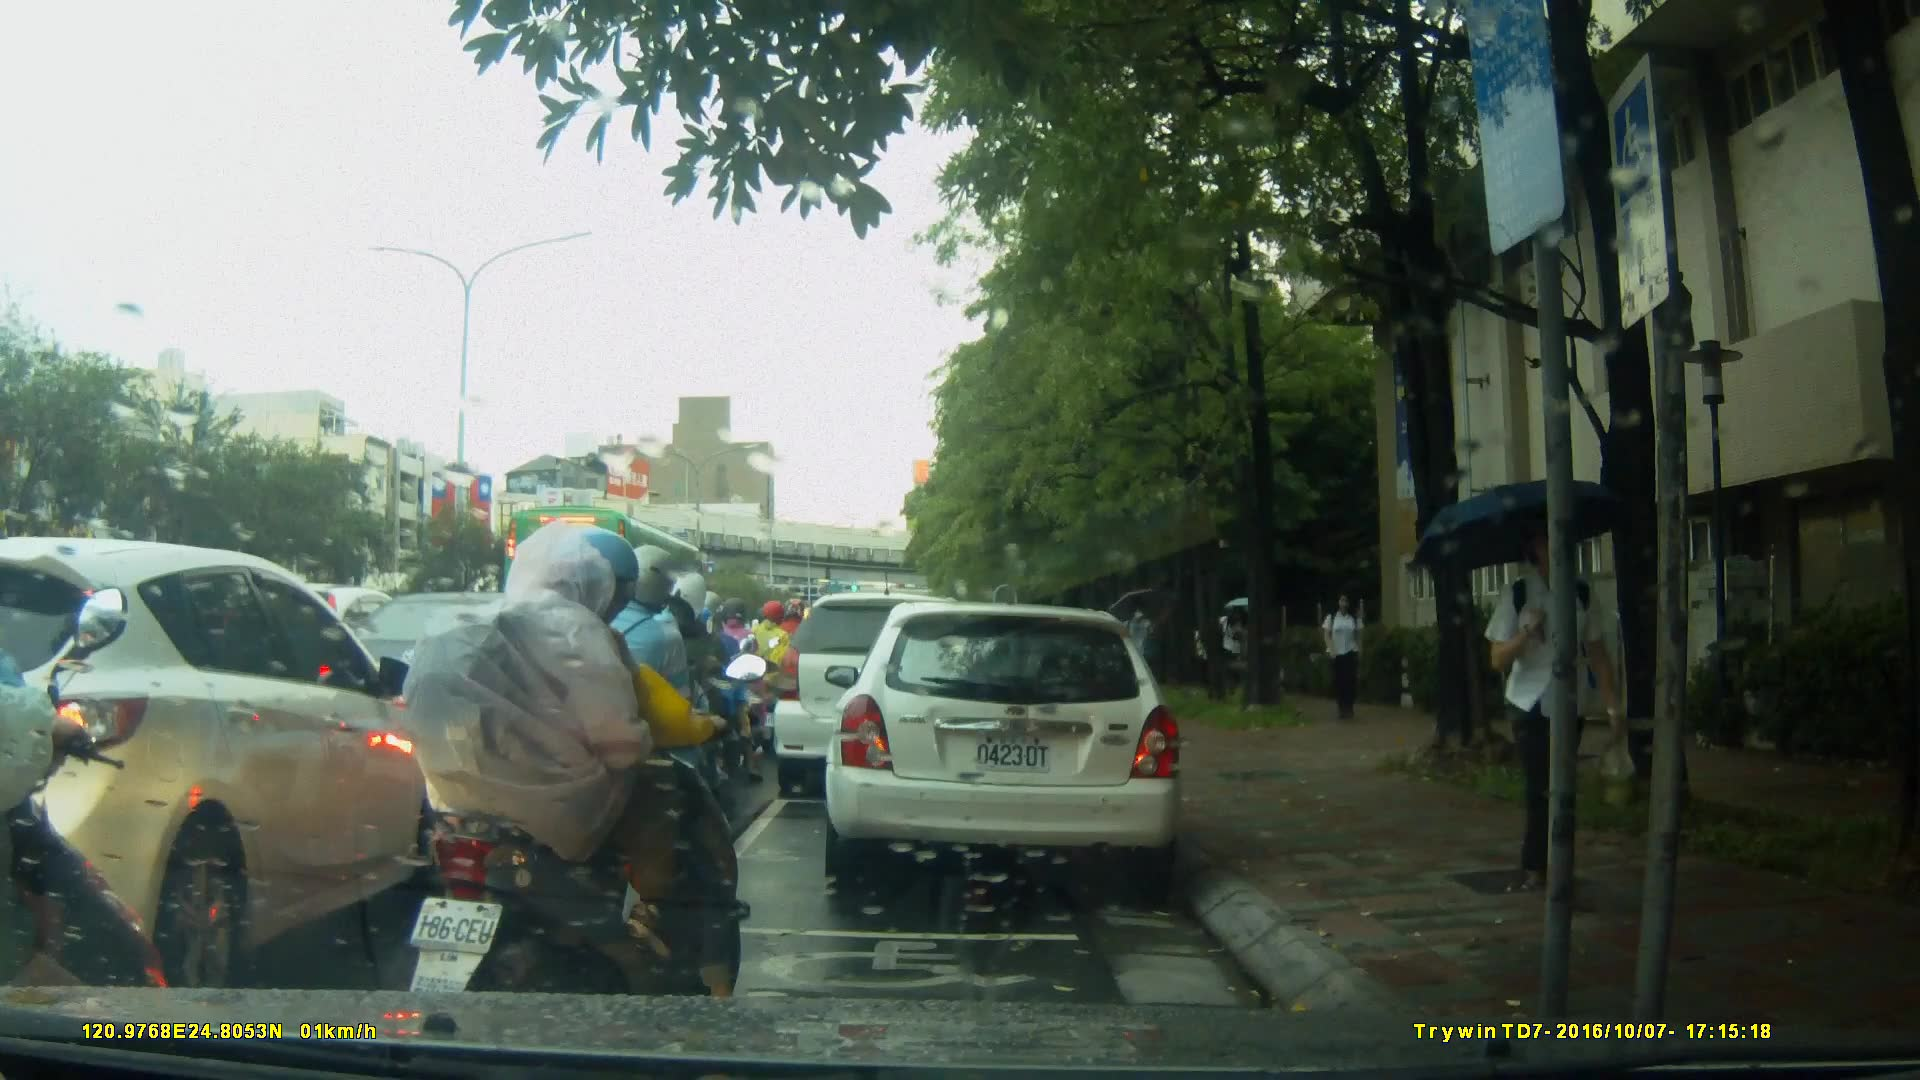pedestrian: (1487, 528, 1642, 895), (1315, 591, 1369, 723), (1119, 595, 1153, 699)
rider: (393, 514, 753, 1073), (1, 585, 177, 1080), (541, 546, 732, 887), (608, 569, 744, 864), (704, 601, 780, 765), (748, 603, 804, 744)
vehicle: (1, 536, 442, 989), (822, 604, 1186, 880), (774, 595, 995, 802), (507, 503, 726, 669)
